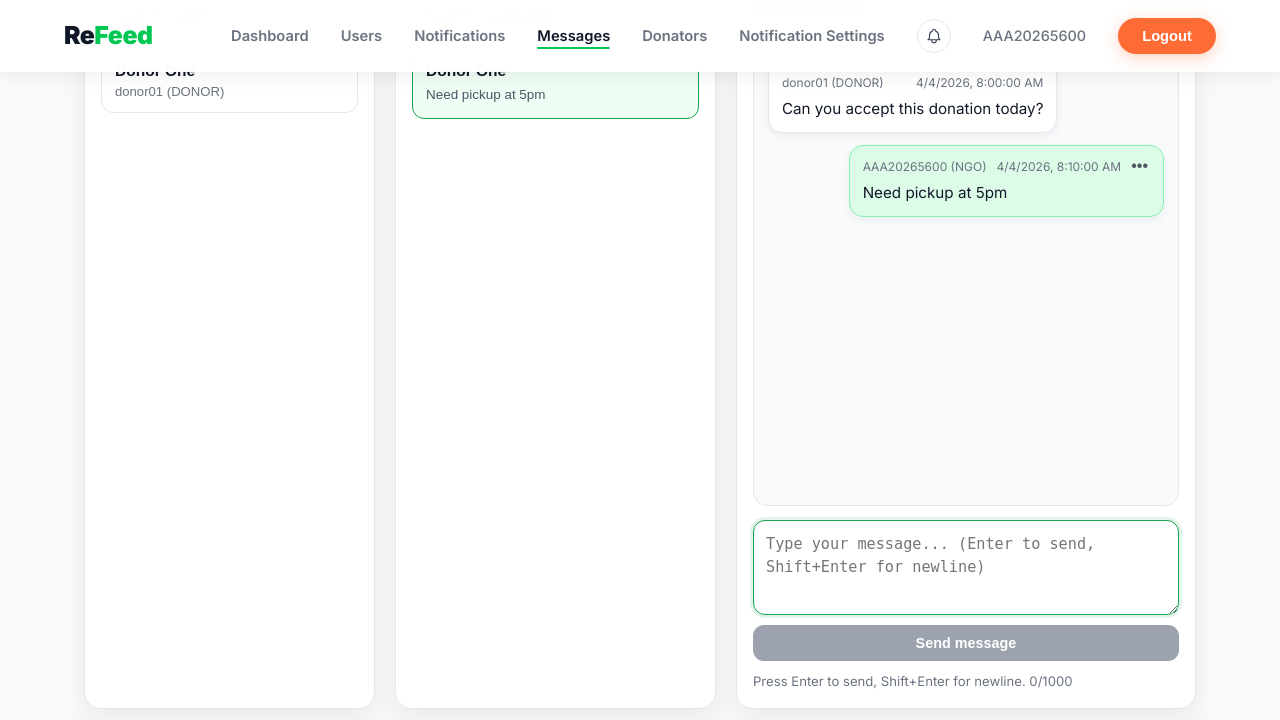
NGO Messages - E2E Tests › should edit and delete an own message
(page scrolled)
Click the button named "Open message actions": click(1140, 166) [1129,158,1150,174]
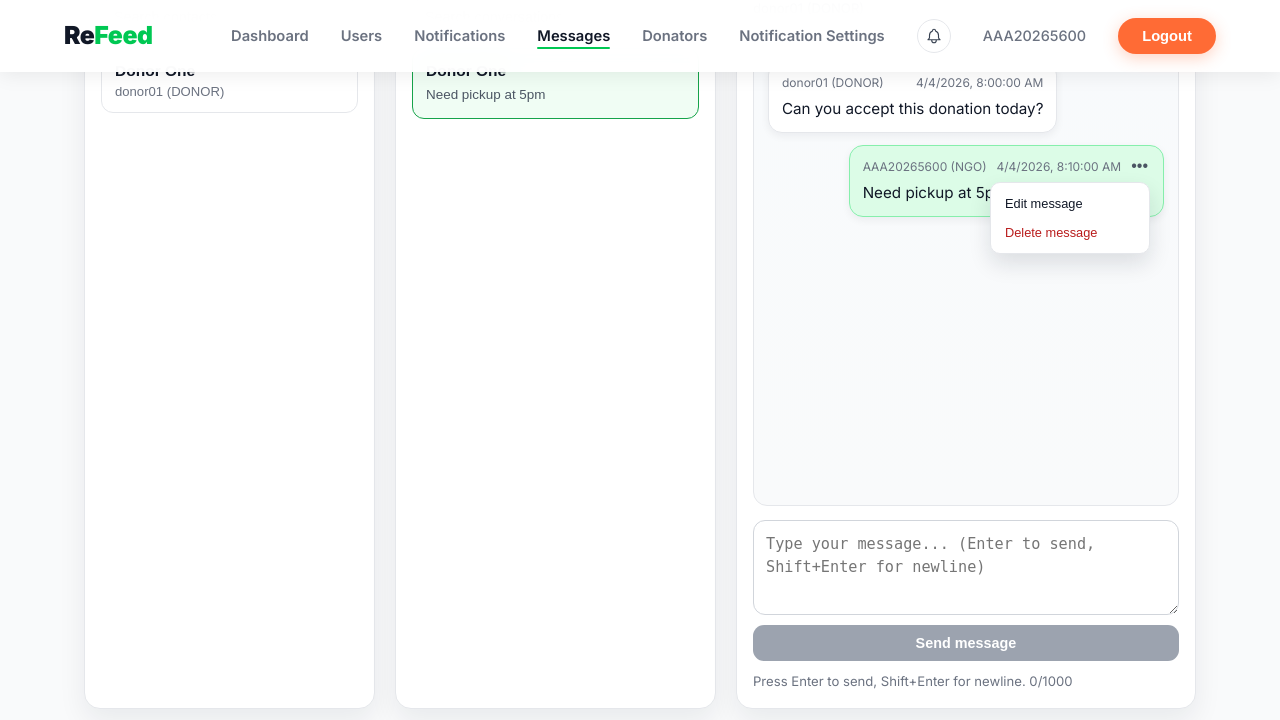
Click the menu item "Edit message": click(1070, 205) [997,190,1143,219]
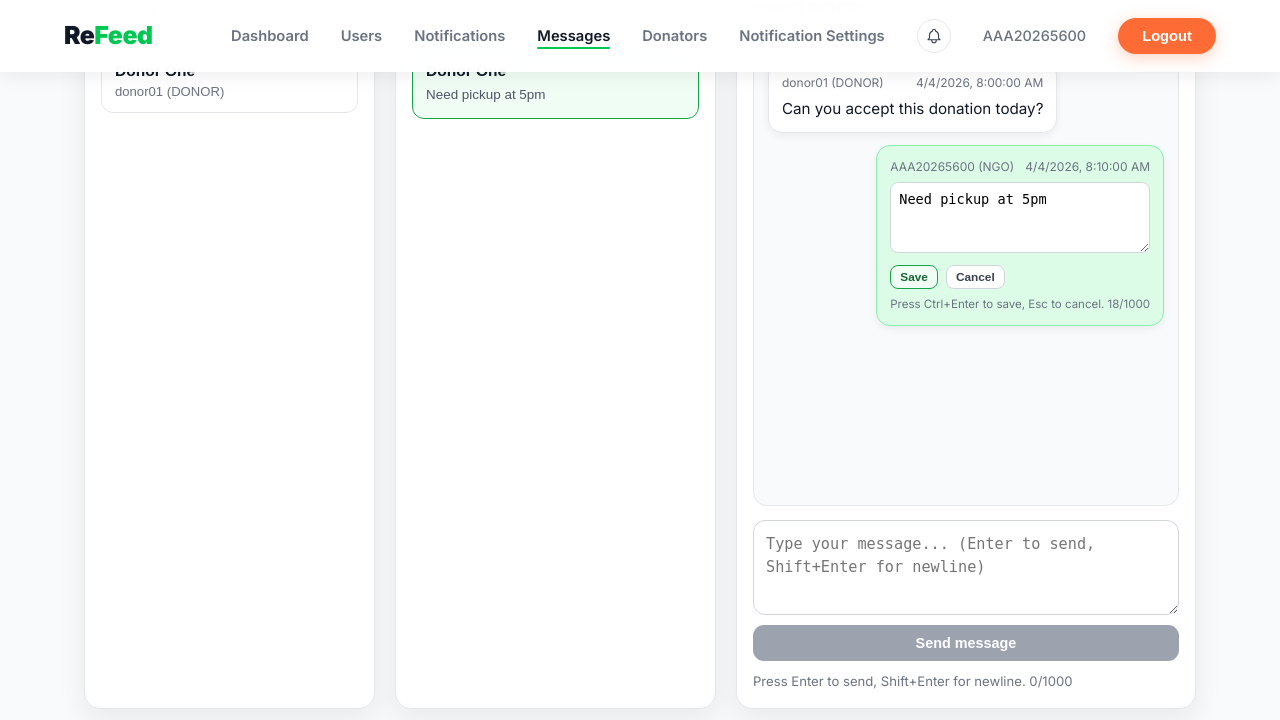
Replace the text in the text box with class "rf-message-edit-input" with "Need pickup at 6pm": (1020, 219) [890,183,1150,254]
Click the button "Save": click(914, 278) [890,266,938,290]
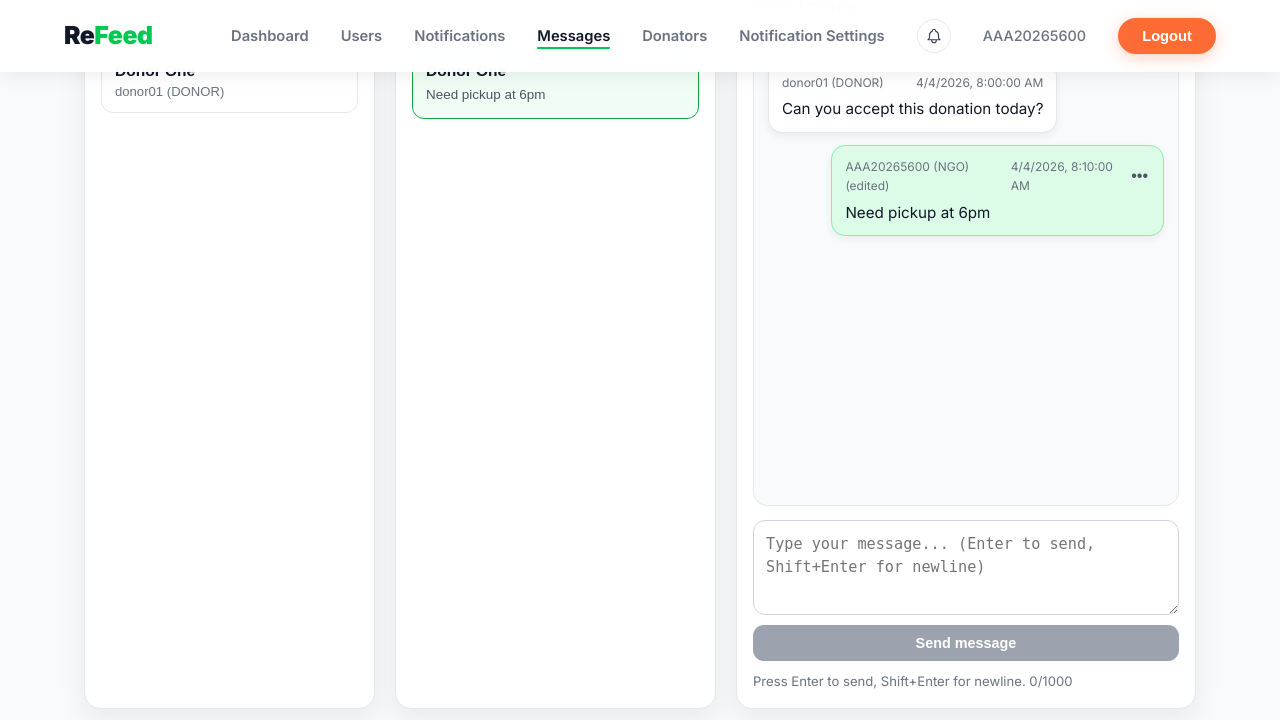
Now the button "Donor One Need pickup at 6pm" is shown, box [412,48,699,119]
Now the text "(edited)" is shown, box [845,178,889,193]
Click the button named "Open message actions": click(1140, 176) [1129,168,1150,184]
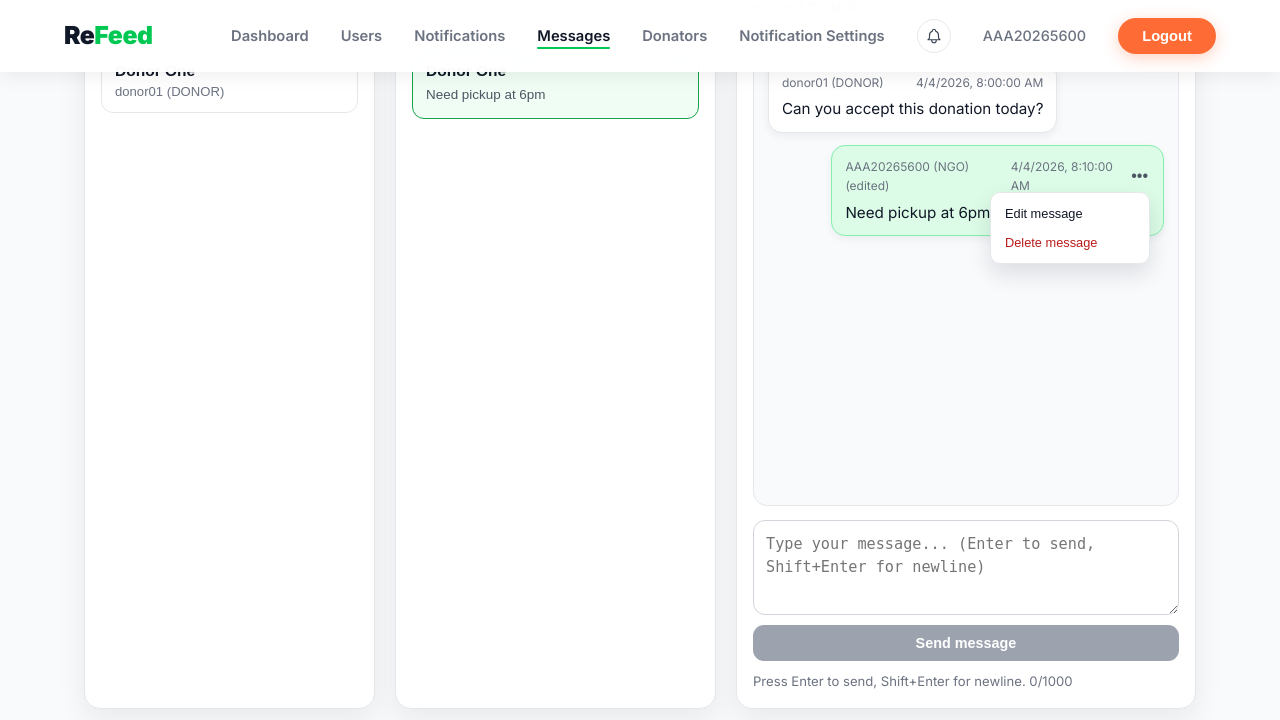
Click the menu item "Delete message": click(1070, 243) [997,228,1143,257]
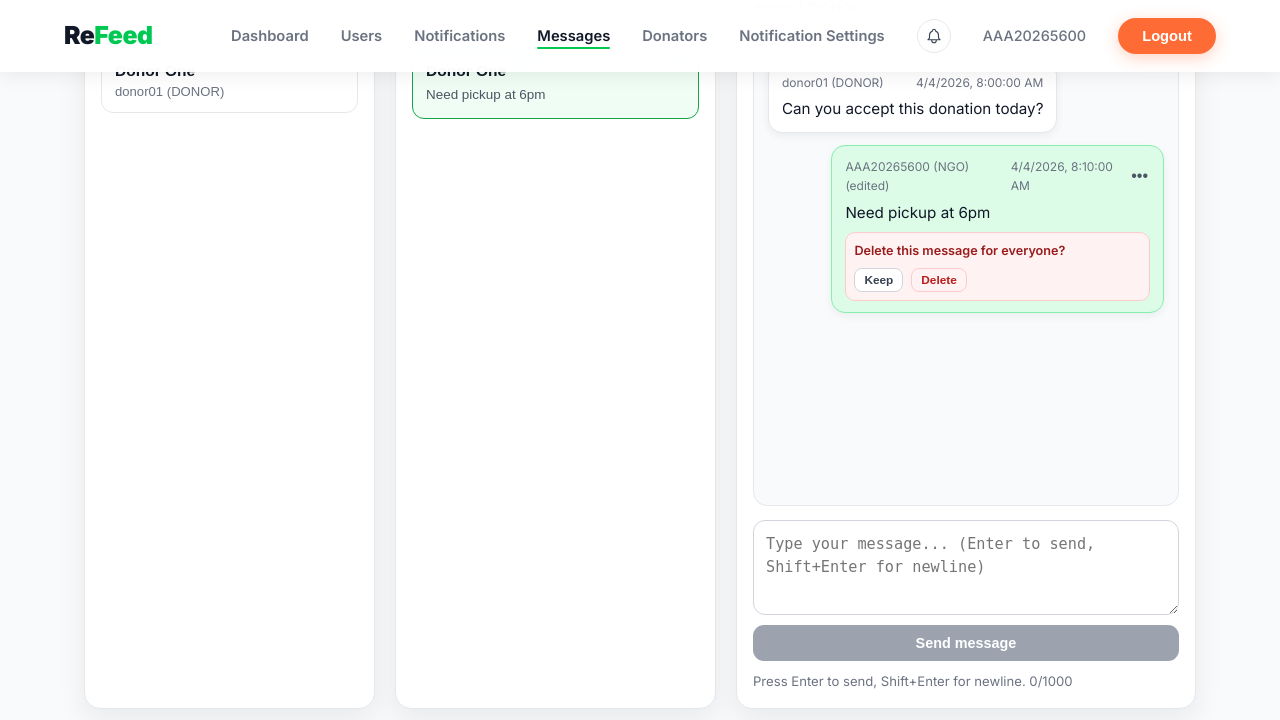
Click the button "Delete": click(939, 280) [911,268,967,292]
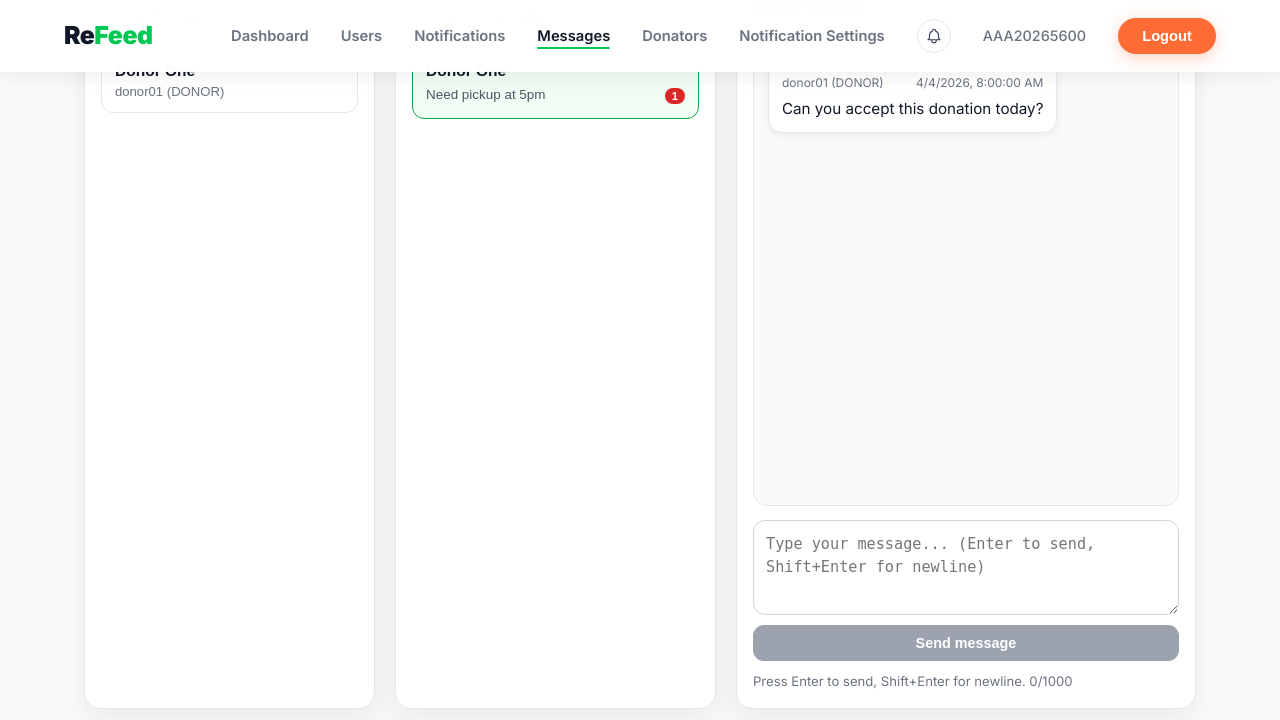
Now the button "Need pickup at 6pm" is gone
